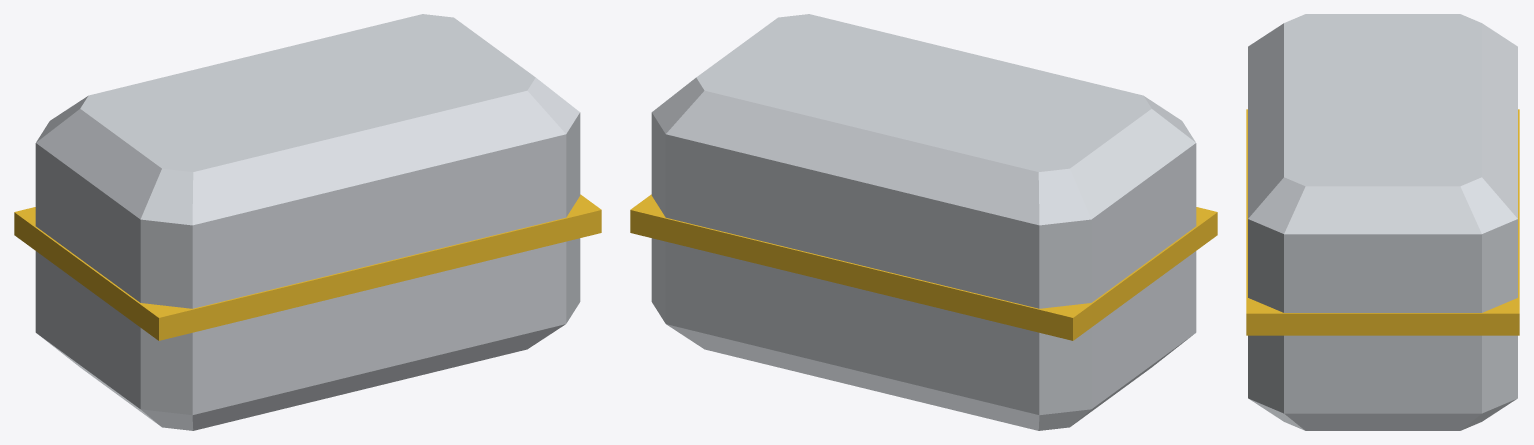
The model's file is brick.glb.
3 views of the same model, side by side, from view 1: azimuth 30°, elevation 25°; view 2: azimuth 150°, elevation 25°; view 3: azimuth 270°, elevation 25° (orthographic). The views are drawn at different scales.
Visible parts, largest first — view 1: brick; view 2: brick; view 3: brick.
Part boxes in pixels (x1,y1,x2,y2): brick: (14, 14, 601, 430); brick: (630, 14, 1217, 430); brick: (1246, 14, 1519, 430).
Bounding box in the file's own units: 1.61 × 0.9 × 0.912.
